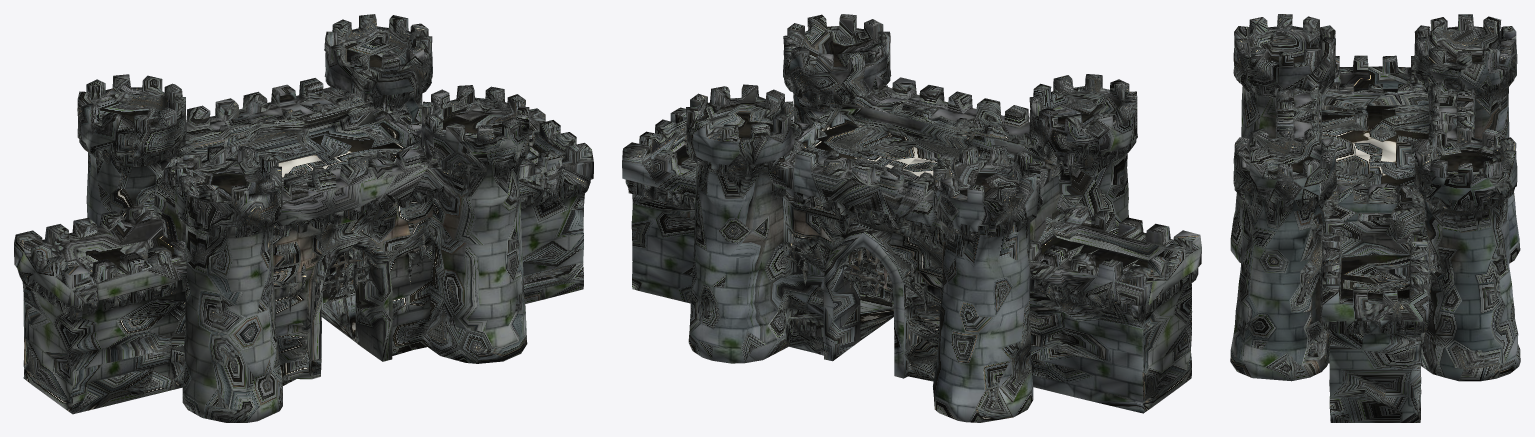
Rendered from gatehouse.glb.
3 renders of one model, left to right at view 1: azimuth 30°, elevation 25°; view 2: azimuth 150°, elevation 25°; view 3: azimuth 270°, elevation 25°, orthographic. The views are drawn at different scales.
Parts seen in each view (by area): view 1: gatehouse; view 2: gatehouse; view 3: gatehouse.
Part boxes in pixels (<box>): gatehouse: <box>14,14,593,422</box>; gatehouse: <box>622,14,1201,422</box>; gatehouse: <box>1230,14,1520,422</box>.
Size of the model in its own units: 2 by 0.8505 by 1.03.
1 material, 1 textured.
